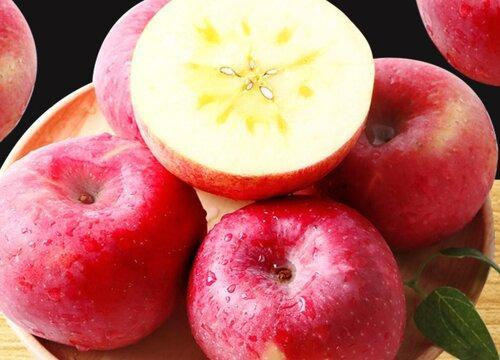apple: (129, 1, 387, 197), (1, 126, 203, 351), (187, 197, 411, 358), (331, 57, 499, 252)
